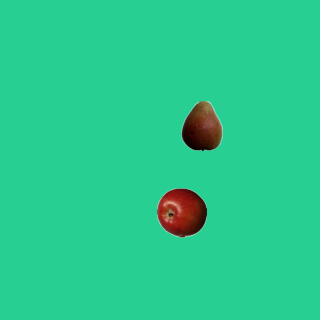Apple Braeburn: (156, 187, 206, 237)
Pear Forelle: (176, 100, 226, 150)
